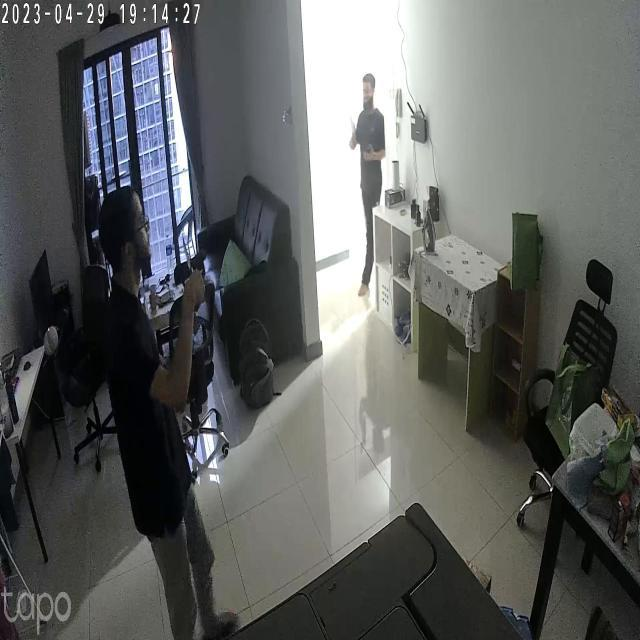Knife: (169, 222, 207, 290)
